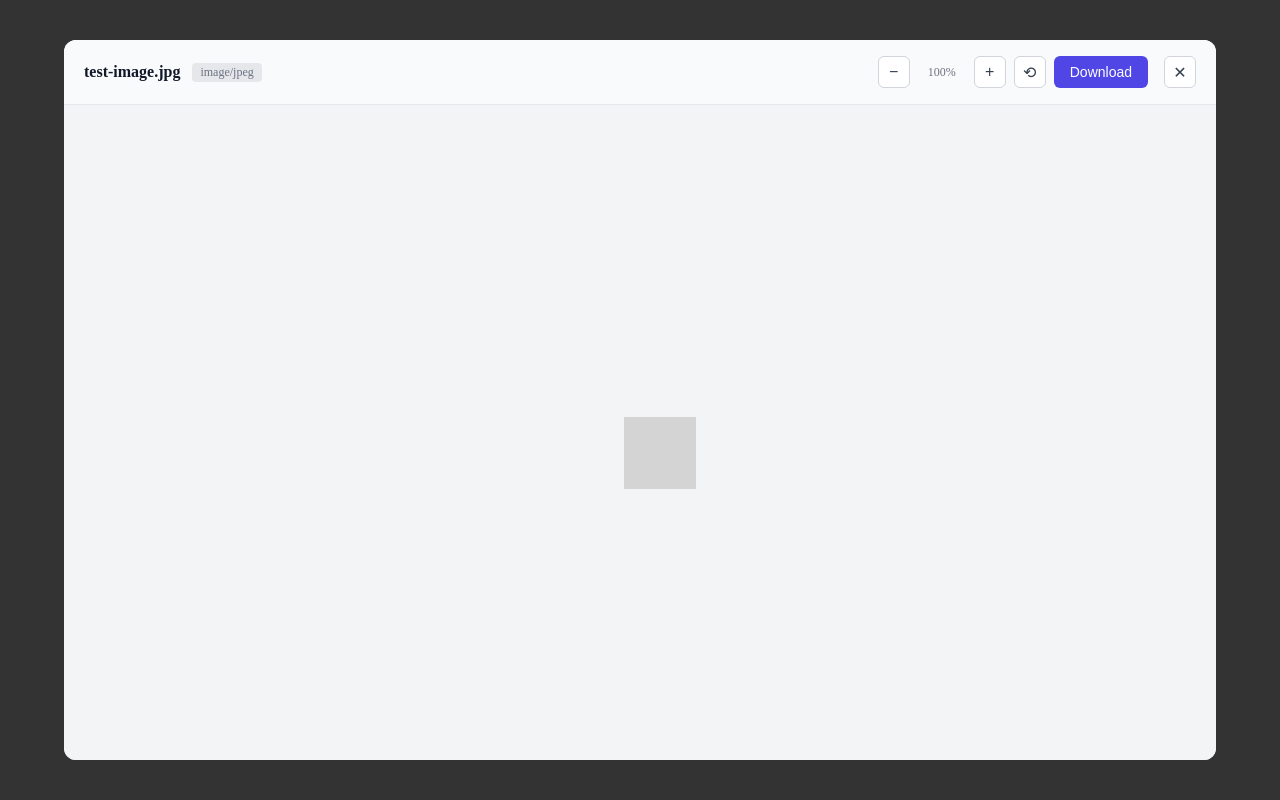
Test: SafetyDocumentViewer › image viewing › decreases zoom on zoom out click
What coordinates should you click on to do the following:
click the button titled "Zoom out (-)"
I would click on:
 (894, 72)
Its box is x1=878 y1=56 x2=910 y2=88.
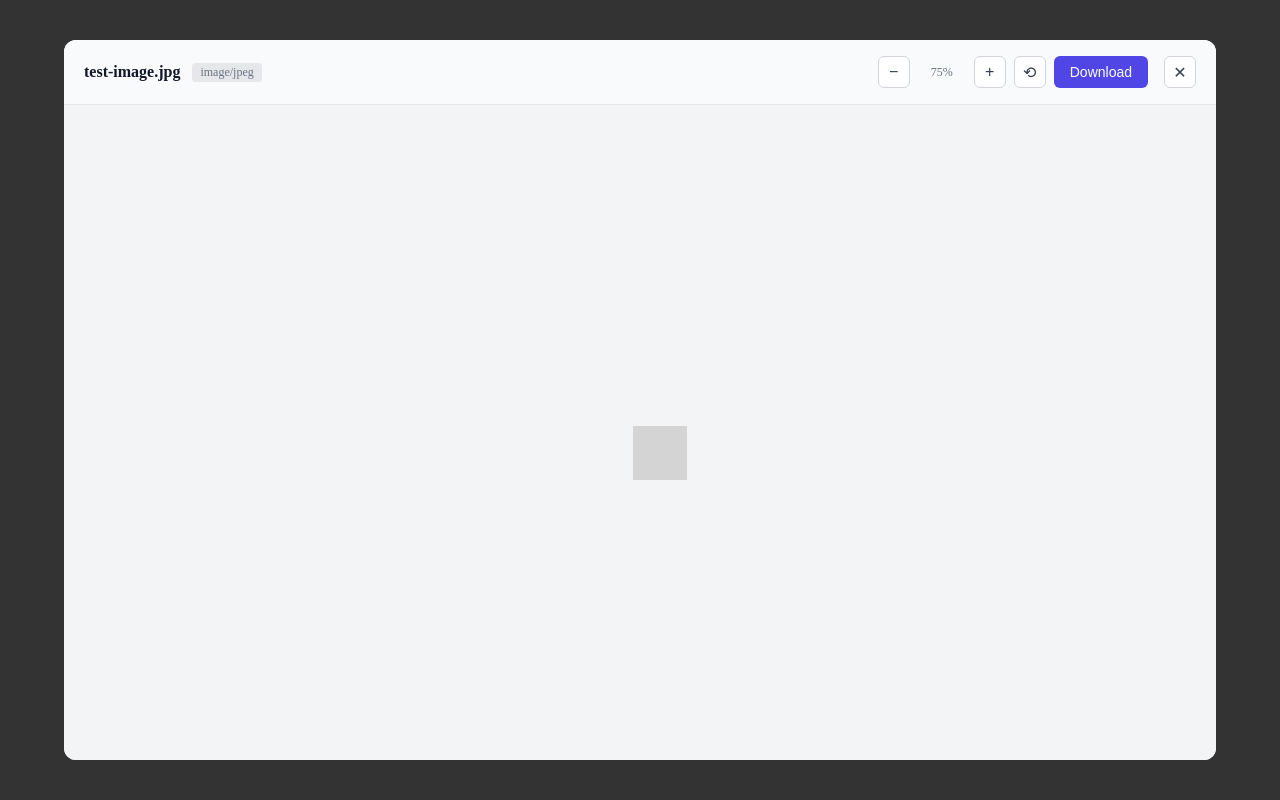
Now the text "75%" is shown, box x1=931 y1=64 x2=953 y2=78
